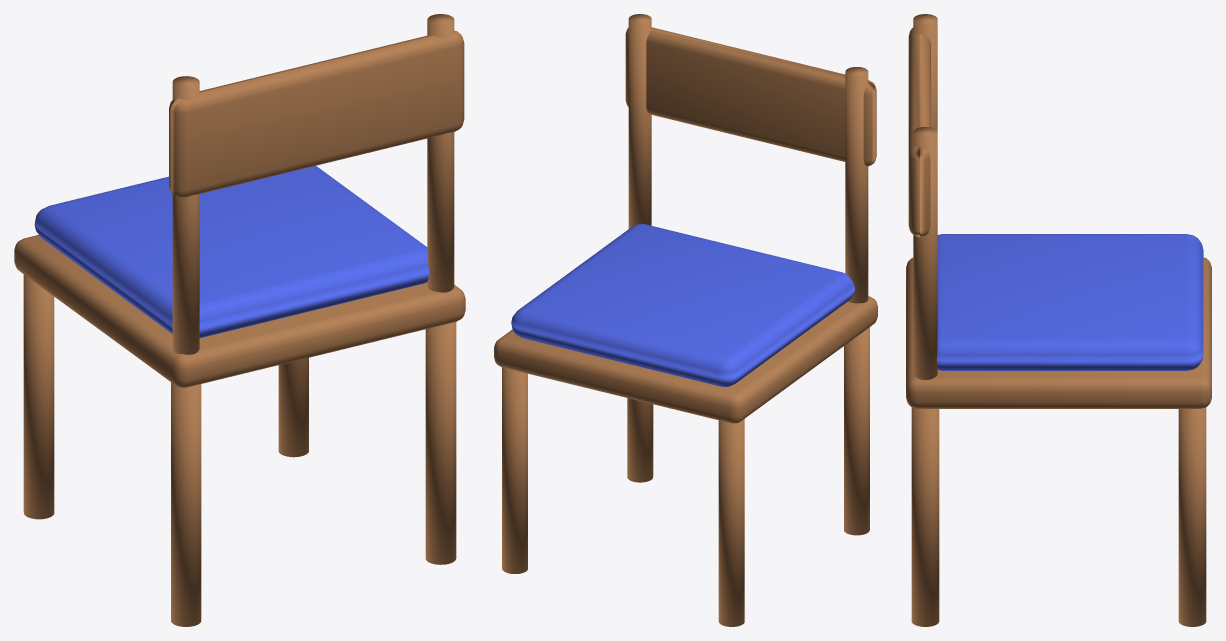
Rendered from chair.glb.
3 views of the same model, side by side, from view 1: azimuth 30°, elevation 25°; view 2: azimuth 150°, elevation 25°; view 3: azimuth 270°, elevation 25° (orthographic). The views are drawn at different scales.
Parts seen in each view (by area): view 1: pad, back.001, seat.001, leg.006, leg.005, leg.004, post, post.001, leg.007; view 2: pad, back.001, seat.001, leg.005, leg.007, leg.004, post, post.001, leg.006; view 3: pad, seat.001, leg.006, leg.007, post.001, back.001, post.
Part boxes in pixels (x1=…): pad: x1=34, y1=166, x2=429, y2=337; back.001: x1=169, y1=30, x2=464, y2=197; seat.001: x1=14, y1=235, x2=465, y2=387; leg.006: x1=425, y1=322, x2=456, y2=564; leg.005: x1=23, y1=274, x2=54, y2=519; leg.004: x1=171, y1=382, x2=201, y2=626; post: x1=172, y1=76, x2=199, y2=354; post.001: x1=427, y1=14, x2=454, y2=292; leg.007: x1=278, y1=358, x2=308, y2=457; pad: x1=511, y1=224, x2=854, y2=386; back.001: x1=625, y1=27, x2=876, y2=166; seat.001: x1=494, y1=296, x2=877, y2=423; leg.005: x1=718, y1=419, x2=744, y2=626; leg.007: x1=502, y1=367, x2=527, y2=573; leg.004: x1=844, y1=327, x2=869, y2=535; post: x1=845, y1=67, x2=868, y2=303; post.001: x1=628, y1=14, x2=651, y2=228; leg.006: x1=627, y1=398, x2=653, y2=482; pad: x1=937, y1=234, x2=1203, y2=370; seat.001: x1=906, y1=257, x2=1211, y2=408; leg.006: x1=911, y1=407, x2=939, y2=626; leg.007: x1=1178, y1=407, x2=1206, y2=626; post.001: x1=913, y1=127, x2=937, y2=379; back.001: x1=908, y1=27, x2=930, y2=237; post: x1=913, y1=14, x2=937, y2=130.
Size of the model in its own units: 0.55 by 0.97 by 0.55.
